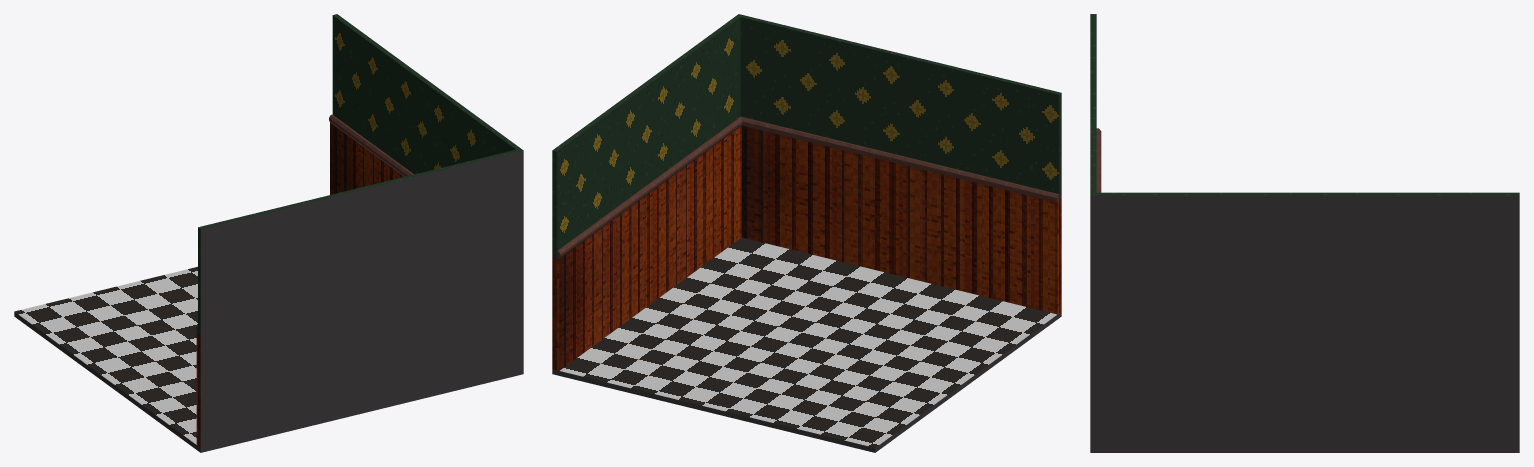
The picture shows the model from 3 angles, left to right: view 1: azimuth 30°, elevation 25°; view 2: azimuth 150°, elevation 25°; view 3: azimuth 270°, elevation 25°; orthographic projection. The views are drawn at different scales.
Visible parts, largest first — view 1: WallRight_3, Floor_0, WallLeft_2, MoldingLeft_4; view 2: WallRight_3, Floor_0, WallLeft_2, MoldingRight_5, MoldingLeft_4; view 3: WallLeft_2, Floor_0, WallRight_3.
Part boxes in pixels (bbox=[...]): WallRight_3: bbox=[196, 150, 523, 447]; Floor_0: bbox=[14, 266, 523, 452]; WallLeft_2: bbox=[330, 14, 523, 370]; MoldingLeft_4: bbox=[329, 114, 413, 176]; WallRight_3: bbox=[738, 14, 1061, 314]; Floor_0: bbox=[552, 237, 1061, 452]; WallLeft_2: bbox=[552, 14, 742, 370]; MoldingRight_5: bbox=[741, 117, 1058, 202]; MoldingLeft_4: bbox=[557, 116, 742, 258]; WallLeft_2: bbox=[1090, 192, 1519, 447]; Floor_0: bbox=[1090, 447, 1519, 452]; WallRight_3: bbox=[1090, 14, 1099, 446].
Bounding box in the file's own units: 8.5 × 5.62 × 8.5.
